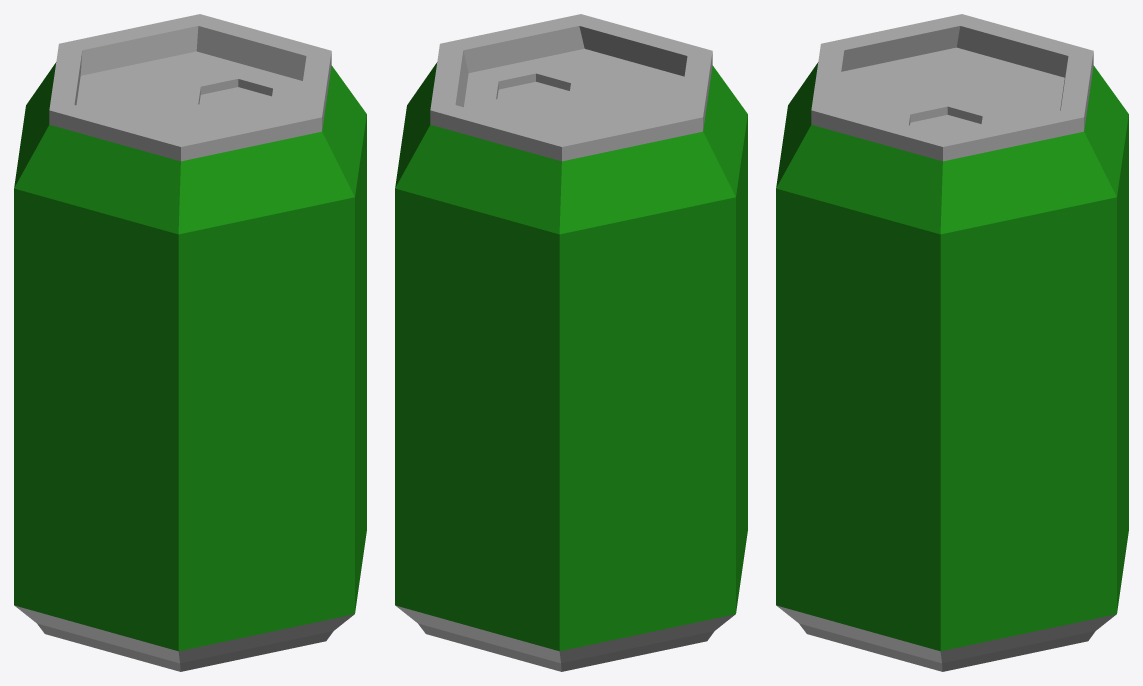
The model's file is Soda Green.fbx.
The picture shows the model from 3 angles, left to right: view 1: azimuth 30°, elevation 25°; view 2: azimuth 150°, elevation 25°; view 3: azimuth 270°, elevation 25°; orthographic projection.
Parts seen in each view (by area): view 1: Soda Green; view 2: Soda Green; view 3: Soda Green.
Part boxes in pixels (x1,y1,x2,y2): Soda Green: (14, 14, 366, 671); Soda Green: (395, 14, 747, 671); Soda Green: (776, 14, 1128, 671).
Size of the model in its own units: 13.82 by 12.39 by 20.25.
